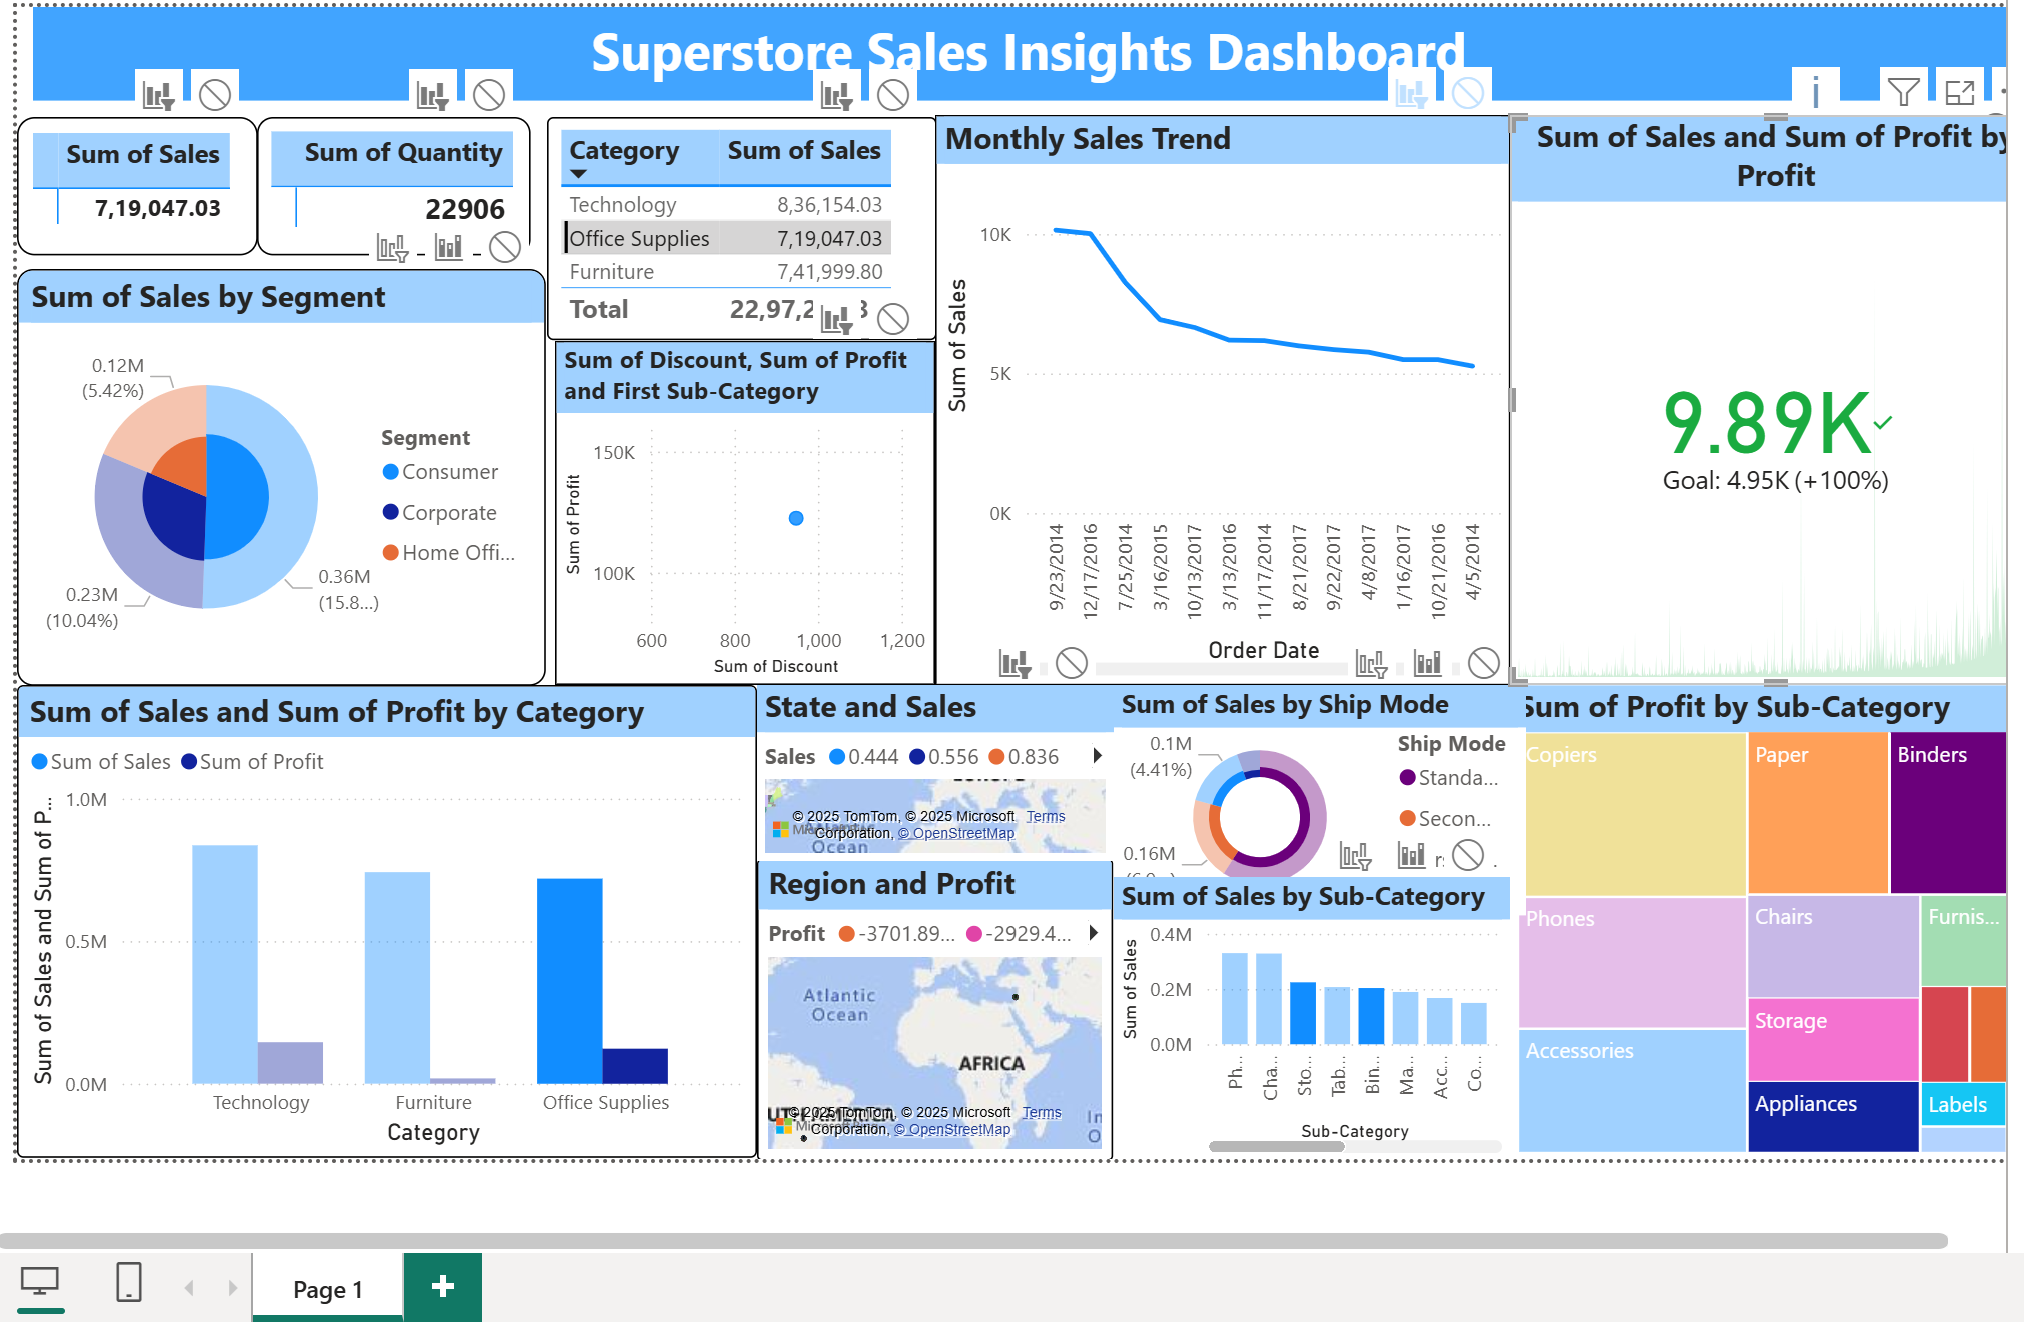

The dashboard page shown, as its layout file describes it:
{"tool":"powerbi","page":{"name":"Page 1","canvas":[1280,720],"ordinal":0},"visuals":[{"type":"textbox","box":[10.4,0,1252.6,58.7],"z":0},{"type":"pivotTable","fields":{"Values":["Sum(Sample - Superstore.Sales)"]},"box":[0,68.8,150.4,86.7],"z":1000},{"type":"pivotTable","fields":{"Values":["Sum(Sample - Superstore.Quantity)"]},"box":[150.4,68.8,170.8,86.7],"z":2000},{"type":"pieChart","fields":{"Category":["Sample - Superstore.Segment"],"Y":["Sum(Sample - Superstore.Sales)"]},"box":[0,163.8,330.7,260.3],"z":3000},{"type":"tableEx","fields":{"Values":["Sample - Superstore.Category","Sum(Sample - Superstore.Sales)"]},"box":[330.7,68.9,243.4,139.3],"z":4000},{"type":"clusteredColumnChart","fields":{"Category":["Sample - Superstore.Category"],"Y":["Sum(Sample - Superstore.Sales)","Sum(Sample - Superstore.Profit)"]},"box":[0,424.1,462.4,295.5],"z":5000},{"type":"map","fields":{"Category":["Sample - Superstore.Region"],"Series":["Sample - Superstore.Profit"]},"box":[462.4,532.8,222,188.3],"z":6000},{"type":"lineChart","title":"Monthly Sales Trend","fields":{"Y":["Sum(Sample - Superstore.Sales)"],"Category":["Sample - Superstore.Order Date"]},"box":[573.8,67.5,358.8,356.2],"z":7000},{"type":"treemap","fields":{"Group":["Sample - Superstore.Sub-Category"],"Values":["Sum(Sample - Superstore.Profit)"]},"box":[932.5,423.8,321.2,297.5],"z":8000},{"type":"donutChart","fields":{"Category":["Sample - Superstore.Ship Mode"],"Y":["Sum(Sample - Superstore.Sales)"]},"box":[685,423.8,257.5,143.8],"z":9000},{"type":"filledMap","fields":{"Category":["Sample - Superstore.State"],"Series":["Sample - Superstore.Sales"]},"box":[462.5,423.8,222.5,110],"z":10000},{"type":"clusteredColumnChart","fields":{"Category":["Sample - Superstore.Sub-Category"],"Y":["Sum(Sample - Superstore.Sales)"]},"box":[685,543.8,247.5,177.5],"z":11000},{"type":"scatterChart","fields":{"X":["Sum(Sample - Superstore.Discount)"],"Y":["Sum(Sample - Superstore.Profit)"]},"box":[336.2,208.8,237.5,215],"z":12000},{"type":"kpi","fields":{"Goal":["Sum(Sample - Superstore.Profit)"],"Indicator":["Sum(Sample - Superstore.Sales)"],"TrendLine":["Sample - Superstore.Profit"]},"box":[932.5,67.5,332.5,356.2],"z":12001}]}

Visuals, with their boxes in screenshot pixels (x1, y1, x2, y2):
textbox: left=22, top=0, right=2023, bottom=95
pivotTable - Sum(Sample - Superstore.Sales): left=5, top=111, right=248, bottom=251
pivotTable - Sum(Sample - Superstore.Quantity): left=248, top=111, right=525, bottom=251
pieChart - Sample - Superstore.Segment x Sum(Sample - Superstore.Sales): left=5, top=265, right=540, bottom=686
tableEx - Sample - Superstore.Category x Sum(Sample - Superstore.Sales): left=540, top=111, right=933, bottom=337
clusteredColumnChart - Sample - Superstore.Category x Sum(Sample - Superstore.Sales): left=5, top=686, right=753, bottom=1163
map - Sample - Superstore.Region x Sample - Superstore.Profit: left=753, top=861, right=1112, bottom=1166
"Monthly Sales Trend" lineChart: left=933, top=109, right=1513, bottom=685
treemap - Sample - Superstore.Sub-Category x Sum(Sample - Superstore.Profit): left=1513, top=685, right=2023, bottom=1166
donutChart - Sample - Superstore.Ship Mode x Sum(Sample - Superstore.Sales): left=1113, top=685, right=1529, bottom=918
filledMap - Sample - Superstore.State x Sample - Superstore.Sales: left=753, top=685, right=1113, bottom=863
clusteredColumnChart - Sample - Superstore.Sub-Category x Sum(Sample - Superstore.Sales): left=1113, top=879, right=1513, bottom=1166
scatterChart - Sum(Sample - Superstore.Discount) x Sum(Sample - Superstore.Profit): left=549, top=338, right=933, bottom=685
kpi - Sum(Sample - Superstore.Profit) x Sum(Sample - Superstore.Sales): left=1513, top=109, right=2023, bottom=685
